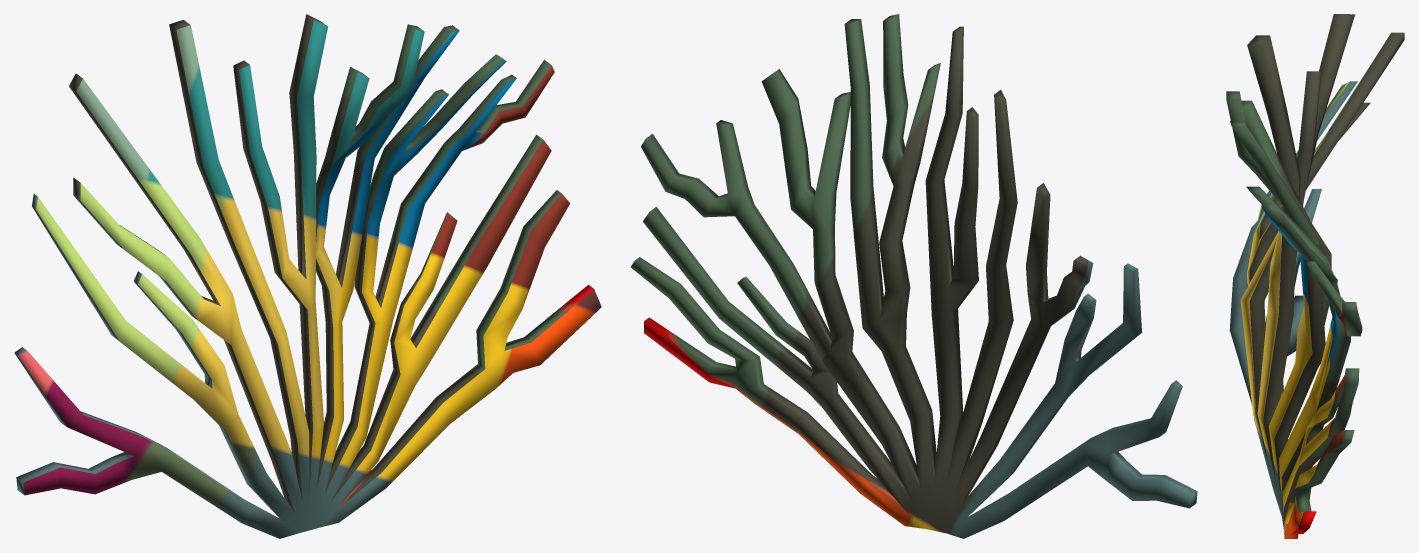
Rendered from coral1.fbx.
The picture shows the model from 3 angles, left to right: view 1: azimuth 30°, elevation 25°; view 2: azimuth 150°, elevation 25°; view 3: azimuth 270°, elevation 25°; orthographic projection. The views are drawn at different scales.
Visible parts, largest first — view 1: node_id30; view 2: node_id30; view 3: node_id30.
Part boxes in pixels (box(x1,y1,x2,y2)): node_id30: box(14, 14, 601, 538); node_id30: box(630, 14, 1197, 538); node_id30: box(1226, 14, 1404, 538).
Size of the model in its own units: 0.512 by 0.442 by 0.1472.
Materials: 1 (1 with a texture image).
